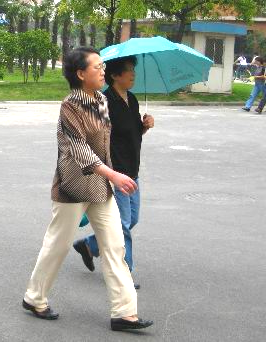pedestrian: (22, 47, 152, 332)
